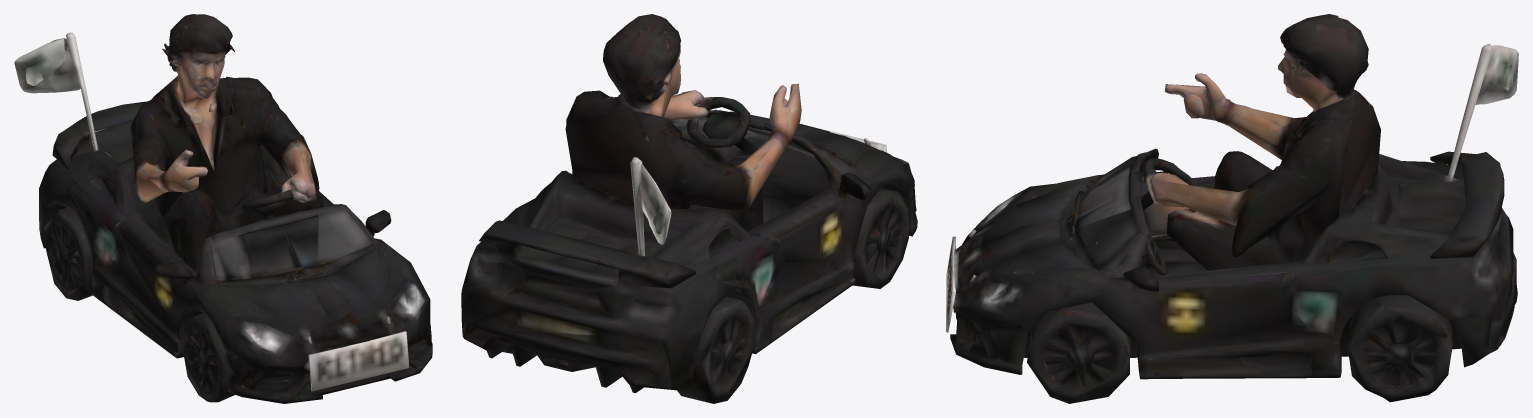
File: rowdy-far.glb
The picture shows the model from 3 angles, left to right: view 1: azimuth 30°, elevation 25°; view 2: azimuth 150°, elevation 25°; view 3: azimuth 270°, elevation 25°; orthographic projection. The views are drawn at different scales.
Visible parts, largest first — view 1: tripo_node_8a532ab2-6b55-4e67-a215-549de5f11a3c; view 2: tripo_node_8a532ab2-6b55-4e67-a215-549de5f11a3c; view 3: tripo_node_8a532ab2-6b55-4e67-a215-549de5f11a3c.
Part boxes in pixels (left/top/right/bottom): tripo_node_8a532ab2-6b55-4e67-a215-549de5f11a3c: left=14, top=14, right=432, bottom=403; tripo_node_8a532ab2-6b55-4e67-a215-549de5f11a3c: left=461, top=14, right=917, bottom=403; tripo_node_8a532ab2-6b55-4e67-a215-549de5f11a3c: left=946, top=14, right=1518, bottom=403.
Bounding box in the file's own units: 0.5412 × 0.6256 × 0.9807.
Materials: 1 (1 with a texture image).
